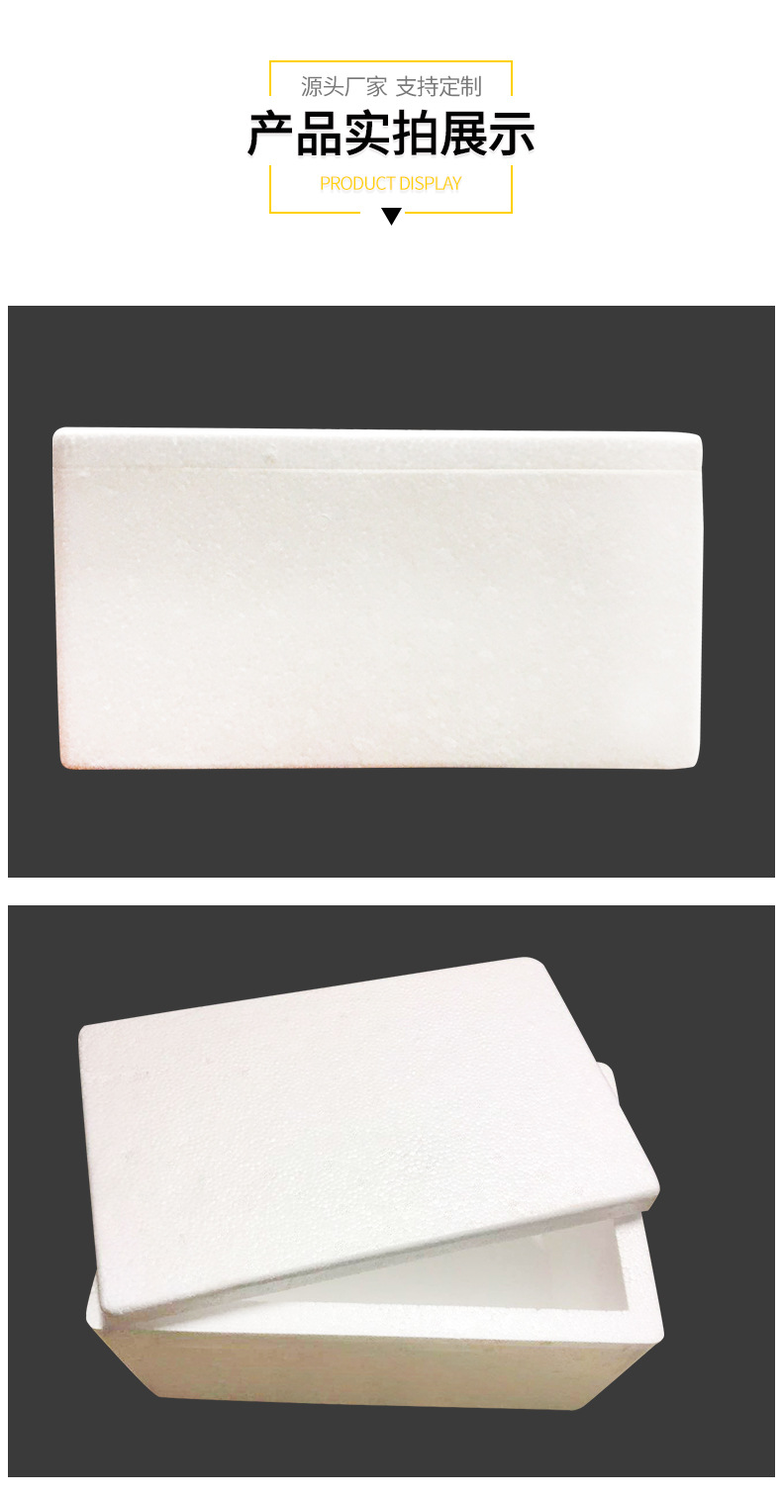泡沫箱: (80, 961, 663, 1409), (52, 428, 703, 769)
